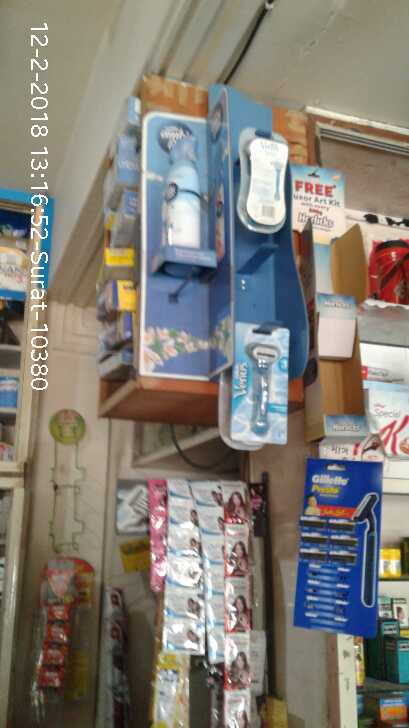beauty: (291, 463, 383, 629), (230, 318, 292, 445)
home: (160, 137, 207, 252)
